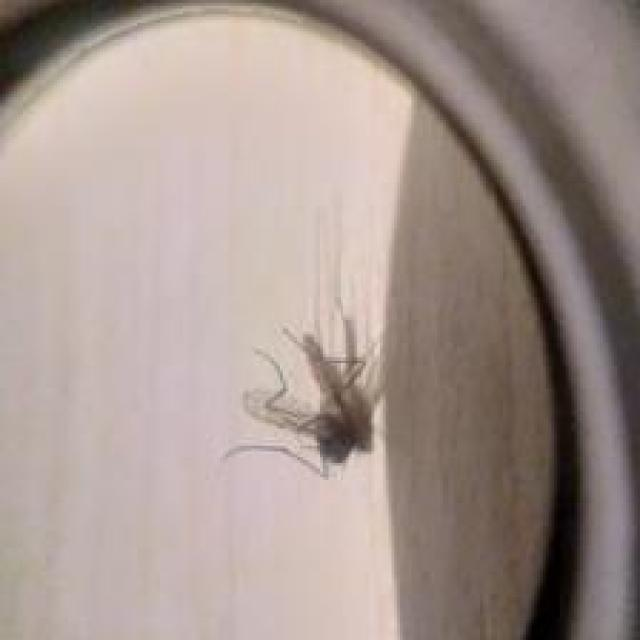Culex: (220, 294, 386, 480)
